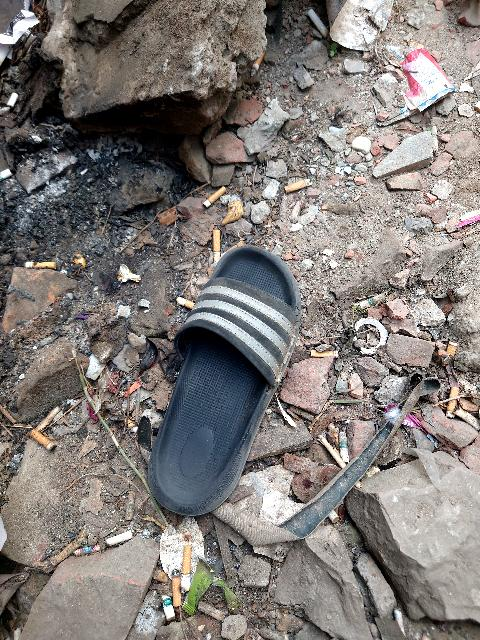sandal: (109, 232, 321, 569)
